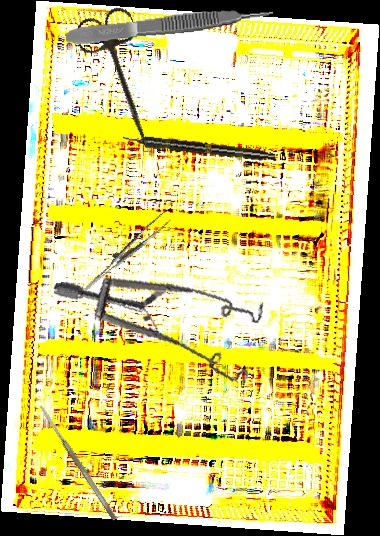Handpiece: (121, 131, 276, 164)
Iris Scissors: (71, 3, 177, 156)
Spatula Surgical: (38, 403, 118, 522)
Speculum: (52, 245, 278, 416)
Tissue Forceps: (64, 4, 275, 47), (72, 211, 178, 292)
